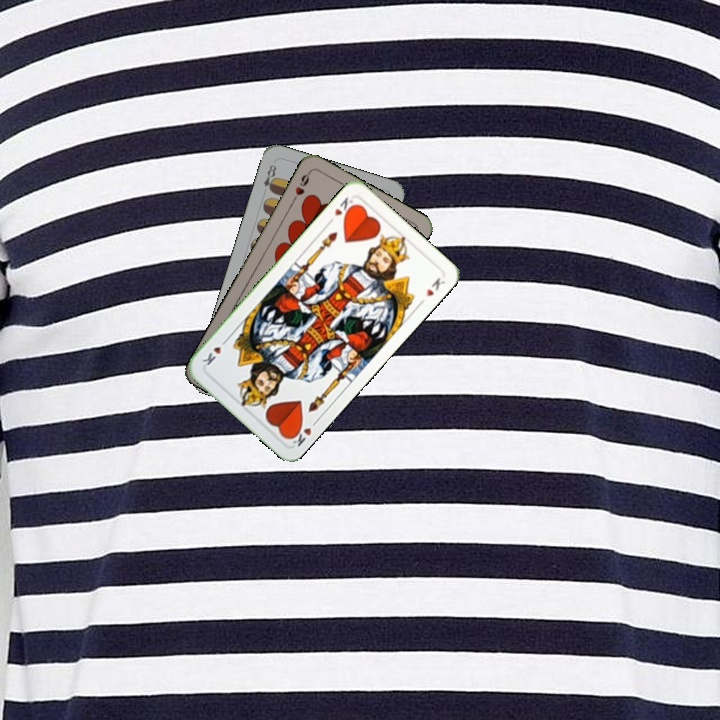E8: (259, 158, 279, 195)
H9: (288, 168, 313, 205)
HK: (285, 415, 321, 449), (324, 193, 358, 227)
